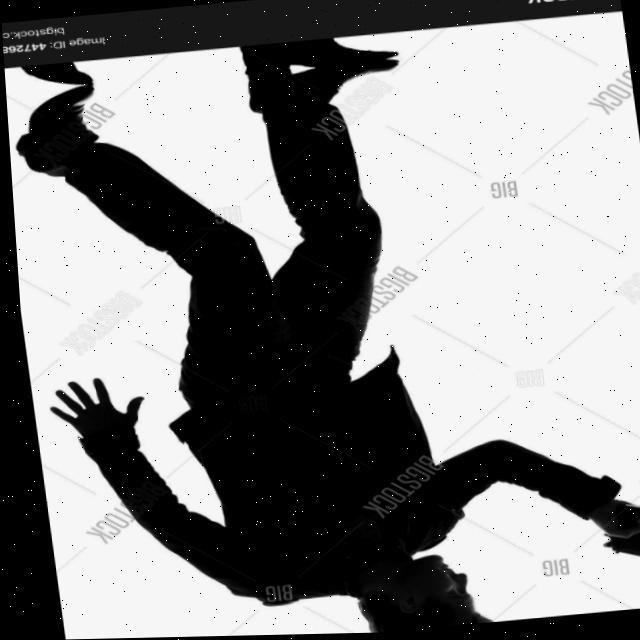pistol: (591, 527, 640, 580)
